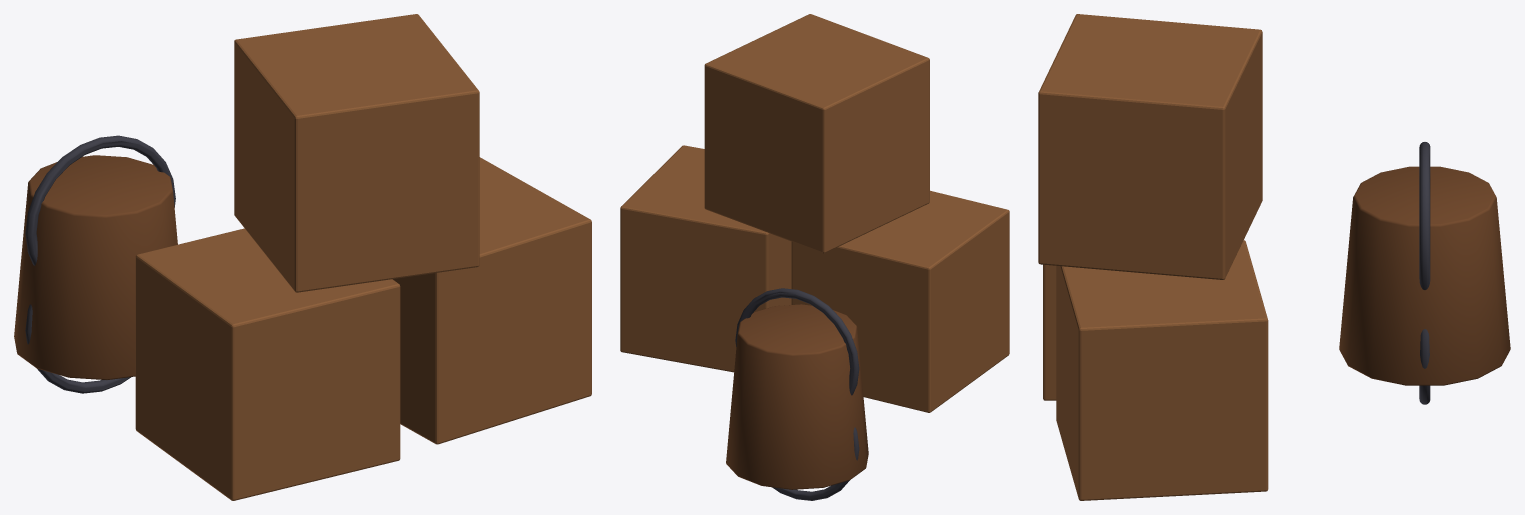
The model's file is hrad-bedny.glb.
The picture shows the model from 3 angles, left to right: view 1: azimuth 30°, elevation 25°; view 2: azimuth 150°, elevation 25°; view 3: azimuth 270°, elevation 25°; orthographic projection. The views are drawn at different scales.
Parts seen in each view (by area): view 1: hrad-bedny; view 2: hrad-bedny; view 3: hrad-bedny.
Part boxes in pixels (x1,y1,x2,y2): hrad-bedny: [14, 14, 591, 500]; hrad-bedny: [620, 14, 1009, 500]; hrad-bedny: [1038, 14, 1510, 500].
Size of the model in its own units: 1.85 by 1.81 by 1.98.
